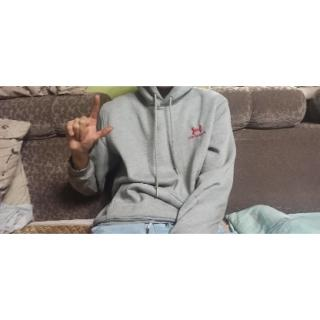LAAM: (62, 92, 115, 156)
